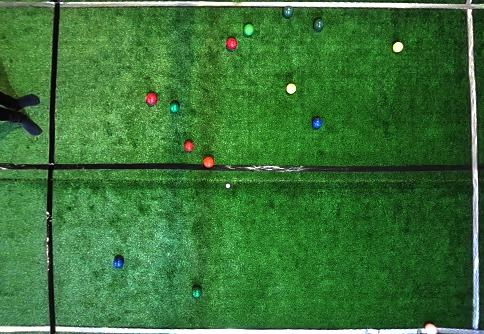blue: (113, 257, 124, 269), (312, 117, 322, 130)
green: (313, 19, 325, 31), (283, 6, 294, 19), (243, 24, 254, 36), (170, 102, 180, 114), (192, 287, 202, 298)
red: (145, 92, 158, 106), (203, 156, 215, 169), (423, 323, 438, 333), (226, 37, 237, 50), (184, 140, 194, 152)
vline: (1, 0, 61, 333), (463, 0, 483, 334)
white: (226, 184, 230, 188)
yellow: (393, 42, 404, 53), (286, 84, 296, 94)
